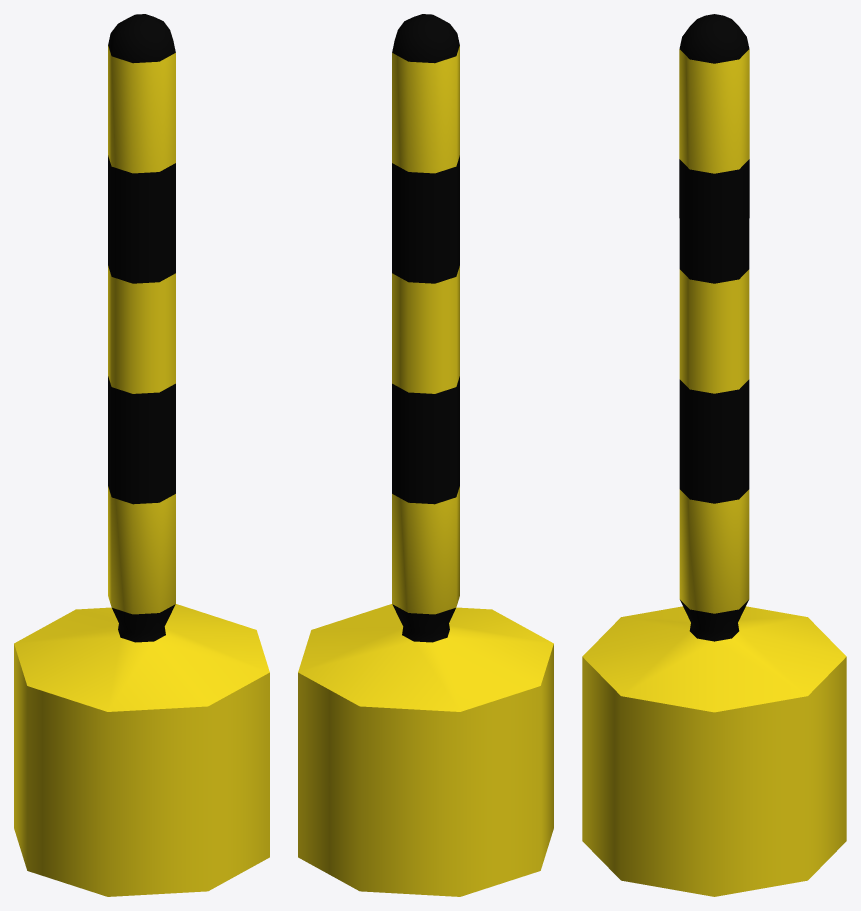
File: Pole.glb
3 renders of one model, left to right at view 1: azimuth 30°, elevation 25°; view 2: azimuth 150°, elevation 25°; view 3: azimuth 270°, elevation 25°, orthographic.
Visible parts, largest first — view 1: Pole; view 2: Pole; view 3: Pole.
Part boxes in pixels (bbox=[...]): Pole: bbox=[14, 14, 269, 896]; Pole: bbox=[298, 14, 553, 896]; Pole: bbox=[582, 14, 846, 896].
Size of the model in its own units: 0.3774 by 1.3 by 0.3774.
